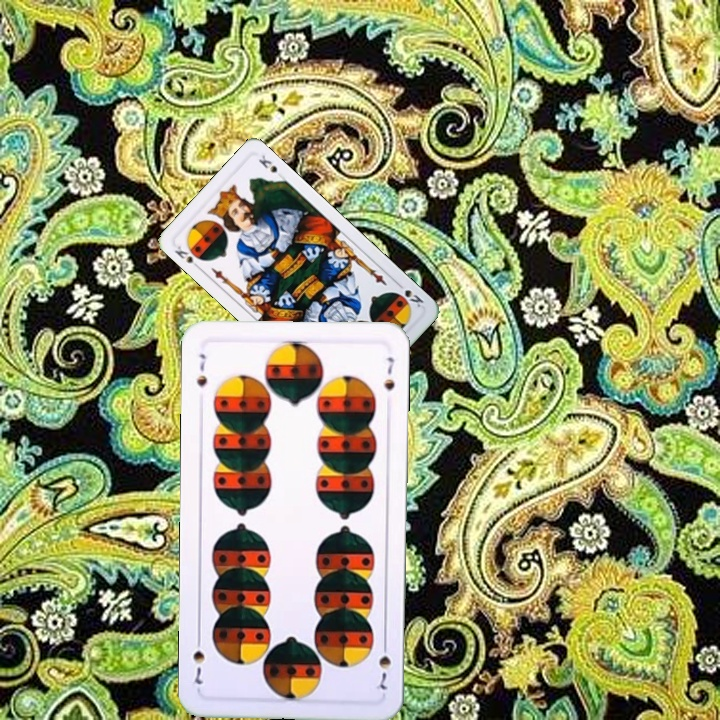S7: (372, 636, 393, 692), (193, 350, 210, 390)
SK: (170, 241, 207, 272), (391, 278, 426, 310)
